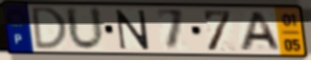7: (154, 8, 186, 53), (202, 9, 234, 53)
A: (237, 11, 284, 52)
D: (31, 5, 70, 51)
N: (114, 8, 152, 51)
U: (63, 5, 107, 53)
